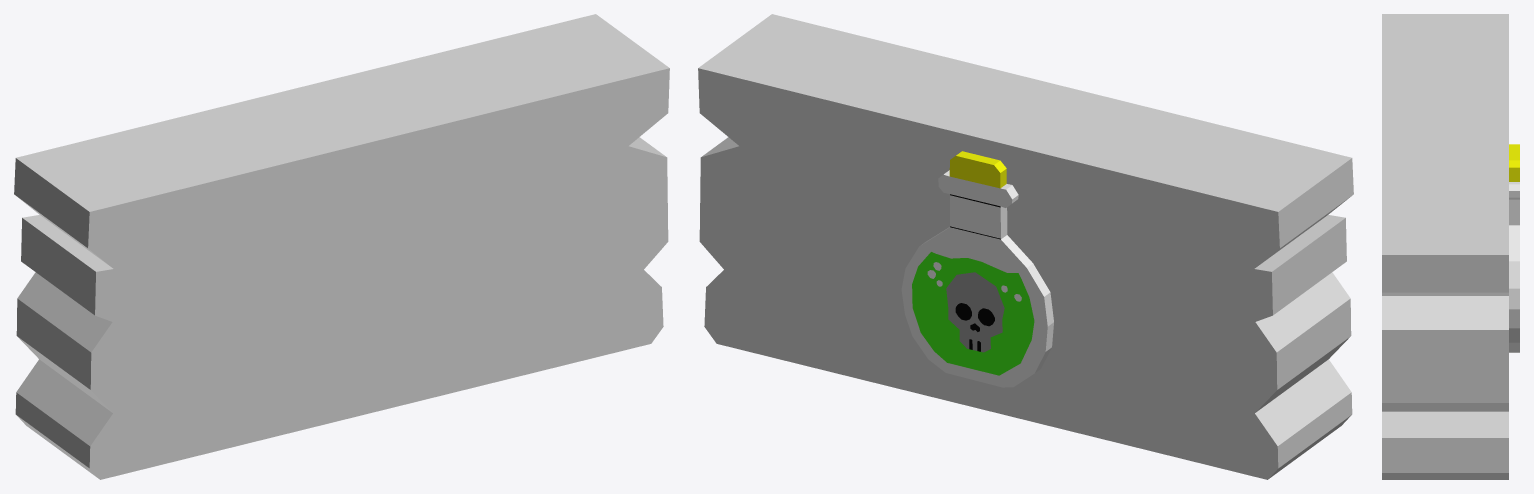
The model's file is Snake_Symbol.glb.
3 renders of one model, left to right at view 1: azimuth 30°, elevation 25°; view 2: azimuth 150°, elevation 25°; view 3: azimuth 270°, elevation 25°, orthographic. The views are drawn at different scales.
Parts seen in each view (by area): view 1: Plane; view 2: Plane, Plane.001; view 3: Plane, Plane.001.
Part boxes in pixels (<box>): Plane: <box>14,14,669,479</box>; Plane: <box>698,14,1353,479</box>; Plane.001: <box>901,151,1053,387</box>; Plane: <box>1382,14,1508,479</box>; Plane.001: <box>1509,144,1519,352</box>.
Size of the model in its own units: 6.7 by 3 by 1.6.
